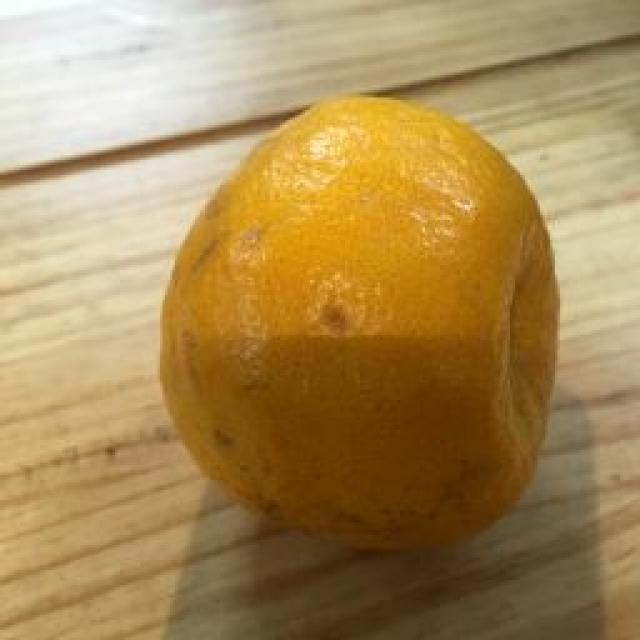Wet: (148, 88, 568, 552)
